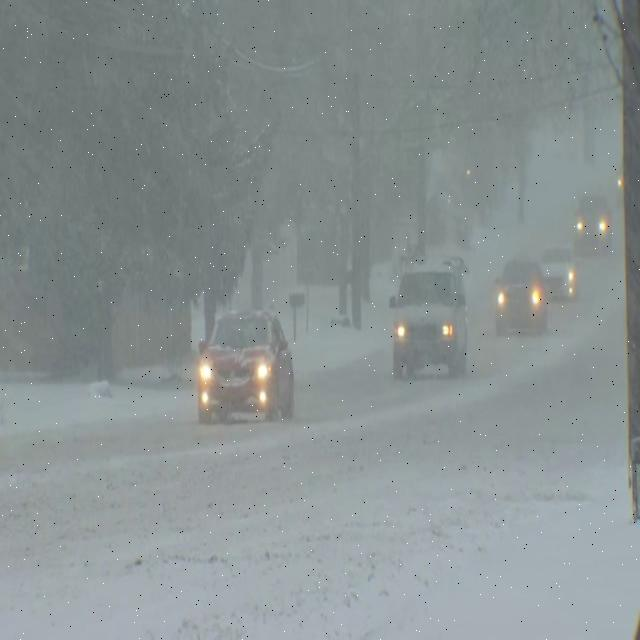car: (194, 308, 294, 426), (386, 262, 474, 381), (492, 260, 548, 336), (576, 191, 612, 253), (541, 240, 577, 300)
